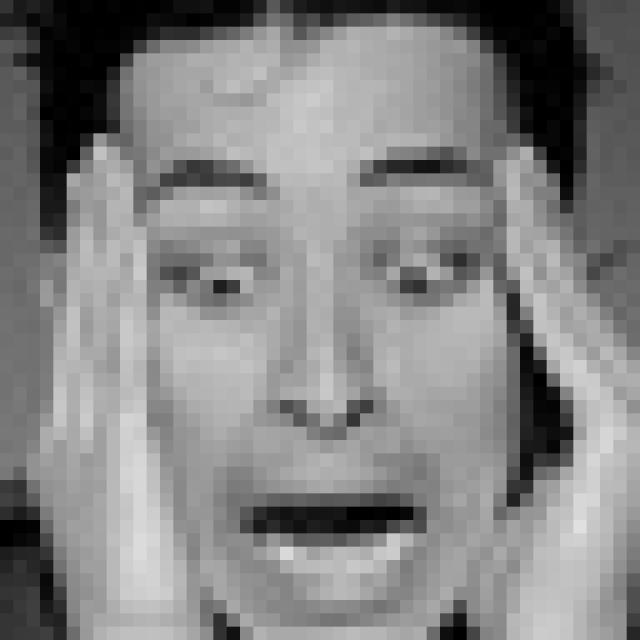fear: (138, 154, 499, 626)
